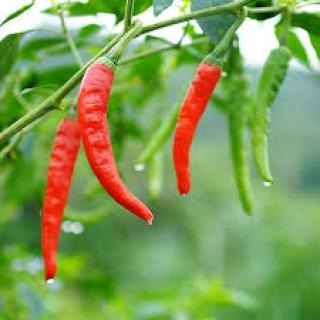Cabai Merah: (81, 61, 157, 227), (173, 64, 223, 199), (42, 119, 82, 283)
